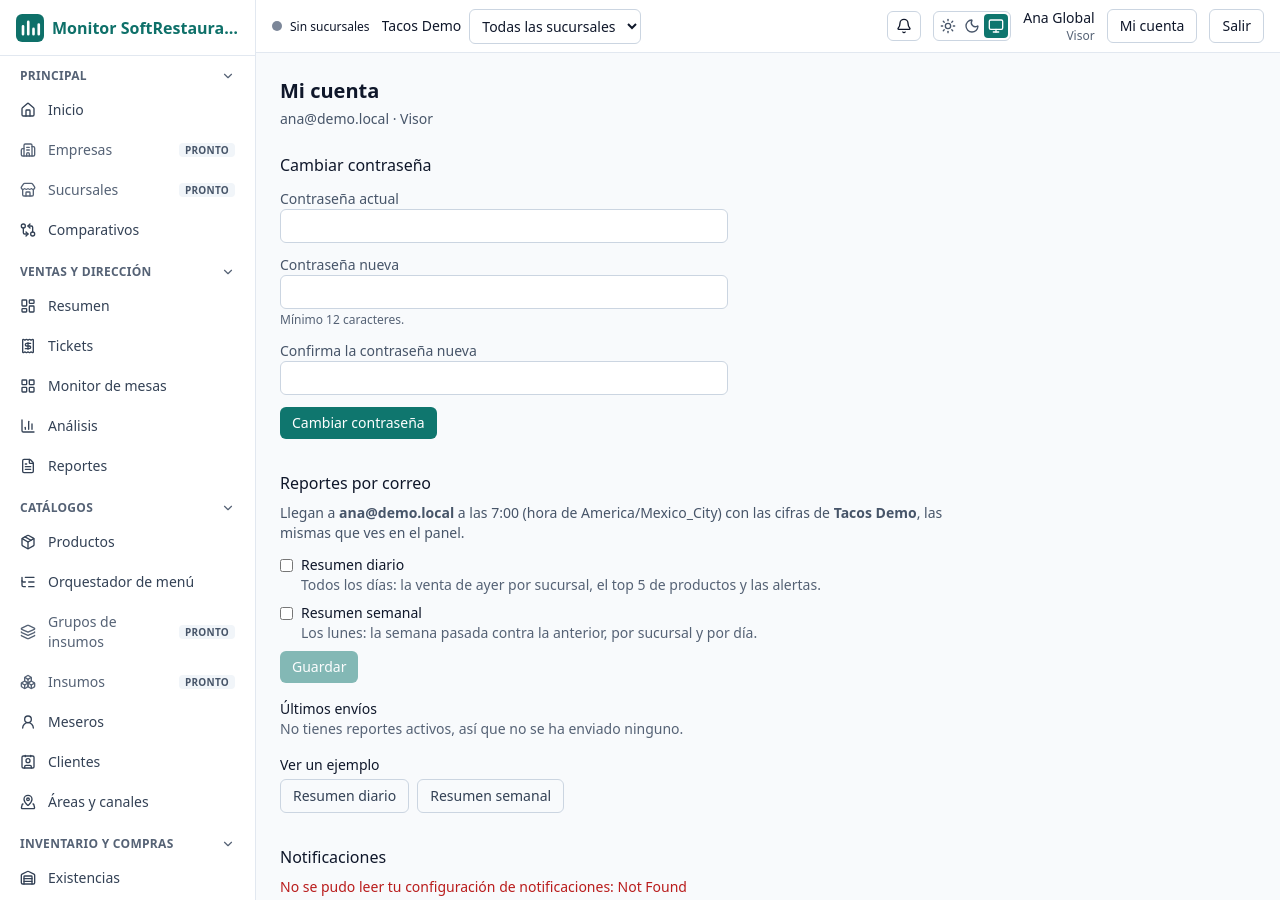
Test case: Mi cuenta → Reportes por correo › un error al guardar se dice y no finge "Guardado"
Click the checkbox labelled "Resumen semanal" at (286, 614), box [280, 607, 293, 620]
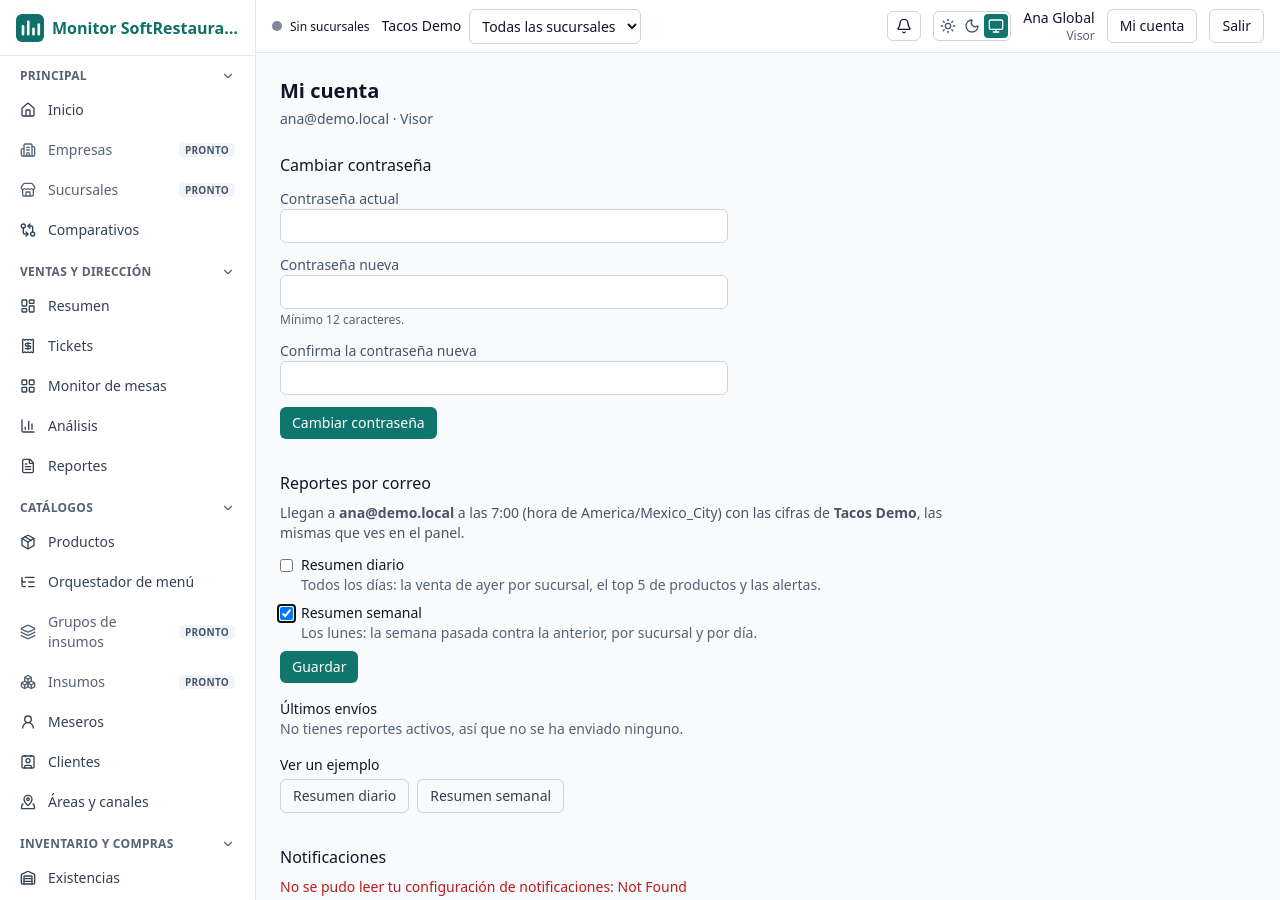
Click the button "Guardar" at (319, 667), box [280, 651, 358, 683]
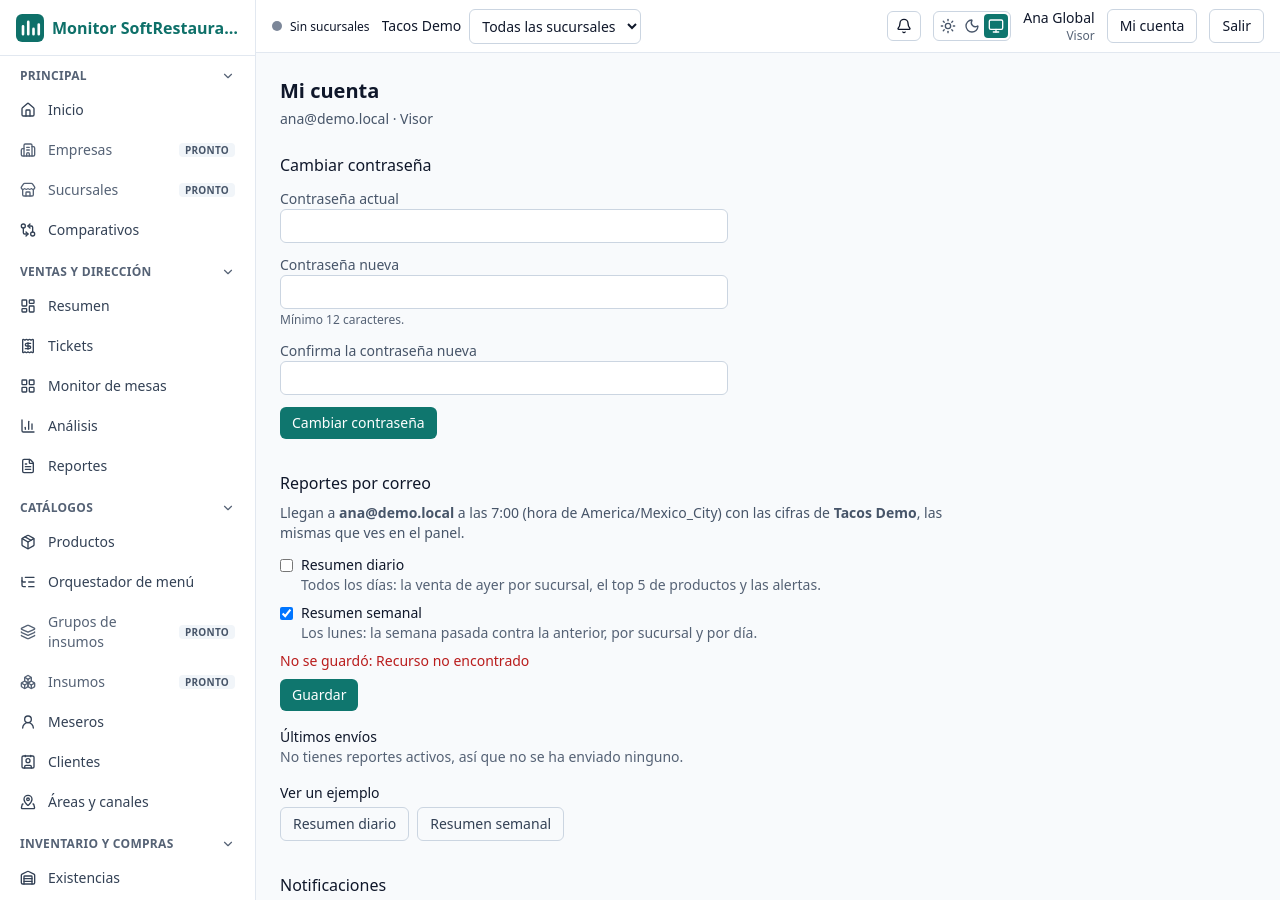
Check: the message reads "No se guardó: Recurso no encontrado", box [280, 651, 529, 670]
